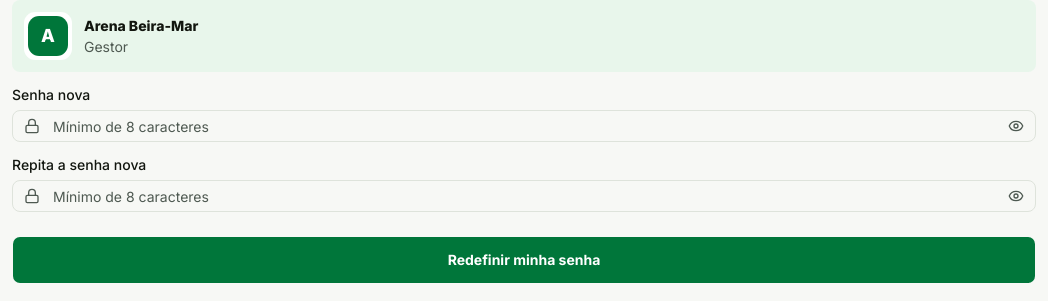
it: RedefinirSenhaForm (SPEC-090/AC-025) › 410 no POST: o formulário sai e fica o estado de link inválido
Type "senha-nova-123" into the password field labelled "Senha nova".
click(524, 126); type("senha-nova-123")  # box [12,110,1036,142]
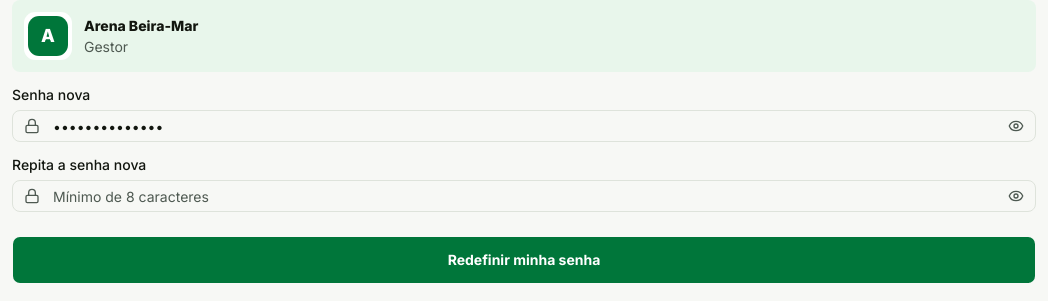
Type "senha-nova-123" into the password field labelled "Repita a senha nova".
click(524, 196); type("senha-nova-123")  # box [12,180,1036,212]
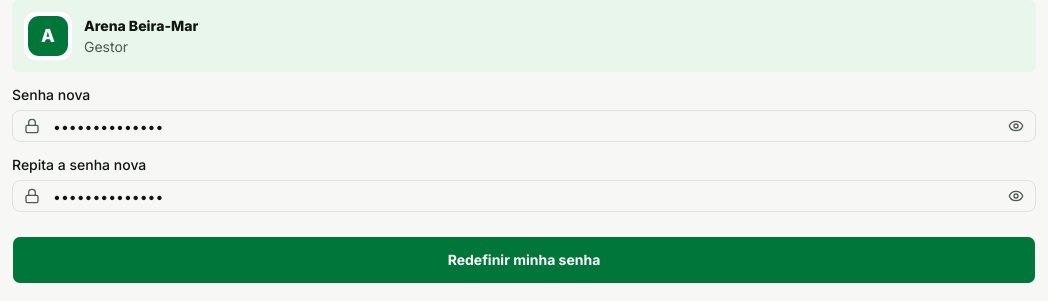
Click the button "Redefinir minha senha".
click(524, 260)  # box [12,236,1036,284]
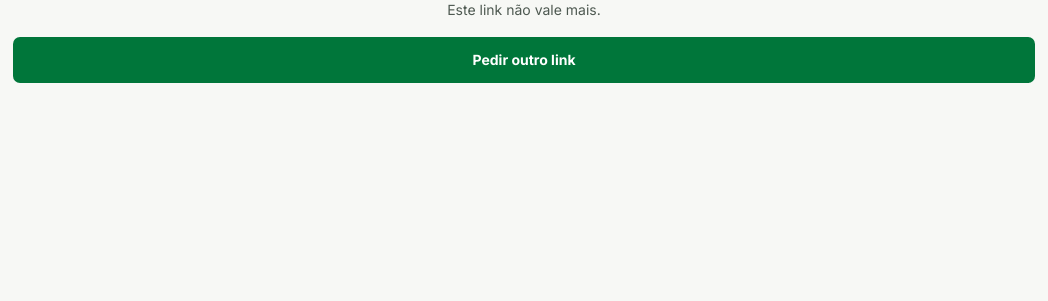
Check: the message reads "Este link não vale mais.", box [447,1,601,18]
Check: the label labelled "Senha nova" is gone
